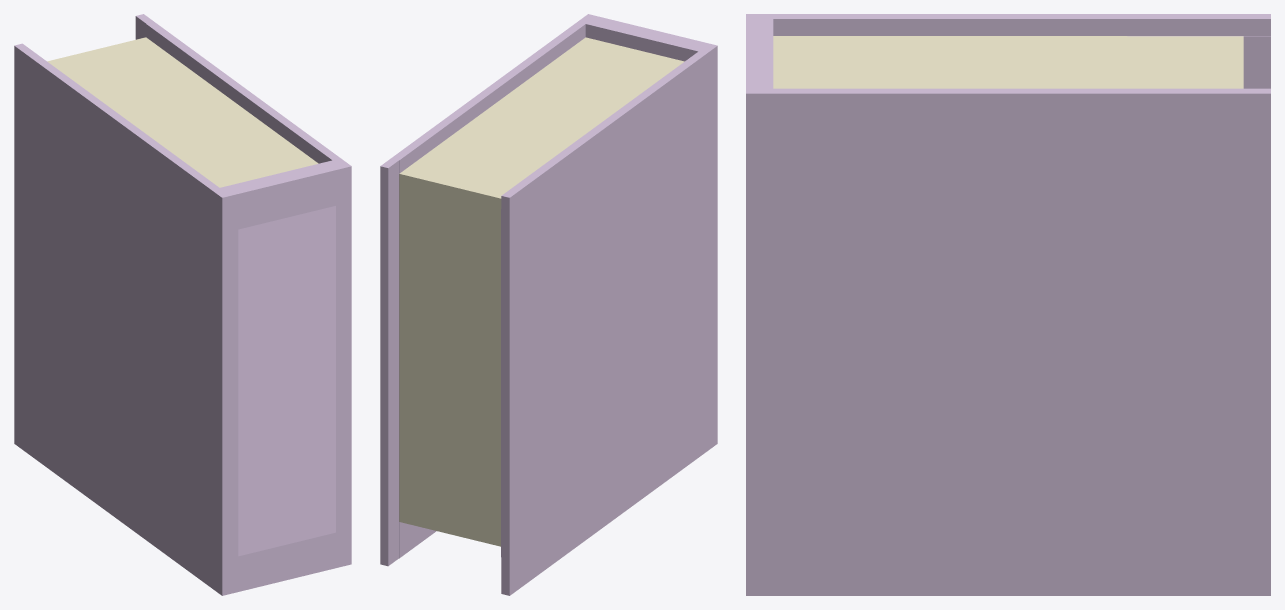
File: book_7.fbx
The picture shows the model from 3 angles, left to right: view 1: azimuth 30°, elevation 25°; view 2: azimuth 150°, elevation 25°; view 3: azimuth 270°, elevation 25°; orthographic projection. The views are drawn at different scales.
Parts seen in each view (by area): view 1: Boole_1; view 2: Boole_1; view 3: Boole_1.
Part boxes in pixels (bbox=[...]): Boole_1: bbox=[14, 14, 351, 595]; Boole_1: bbox=[380, 14, 717, 595]; Boole_1: bbox=[746, 14, 1270, 595].
Bounding box in the file's own units: 3.16 × 9.27 × 8.78.
